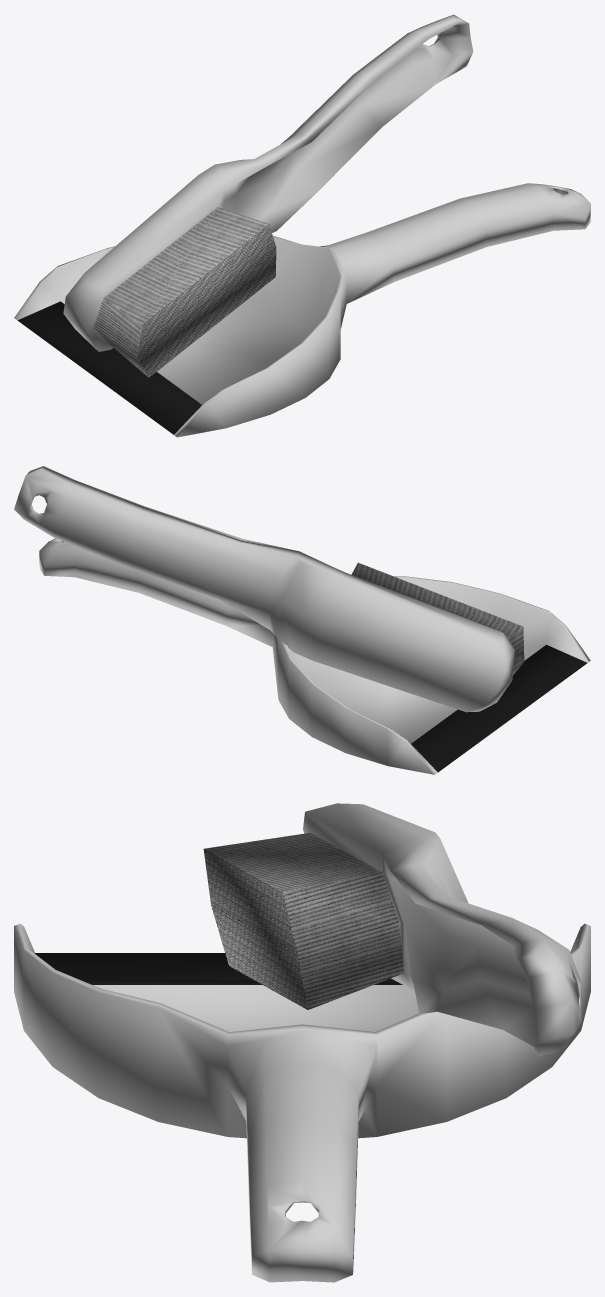
The model's file is Dustpan-Brush.fbx.
The picture shows the model from 3 angles, top to bottom: view 1: azimuth 30°, elevation 25°; view 2: azimuth 150°, elevation 25°; view 3: azimuth 270°, elevation 25°; orthographic projection. The views are drawn at different scales.
Visible parts, largest first — view 1: default; view 2: default; view 3: default.
Boxes of the visible parts, x1,y1,x2,y2 form: default: (14,14,590,437); default: (14,466,590,774); default: (14,803,590,1282).
Bounding box in the file's own units: 679 × 269 × 400.
